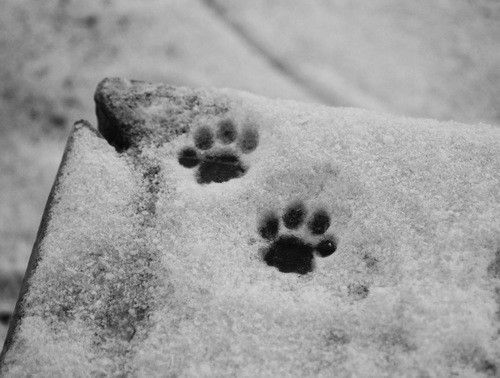cat: (253, 201, 341, 280), (171, 118, 262, 187)
